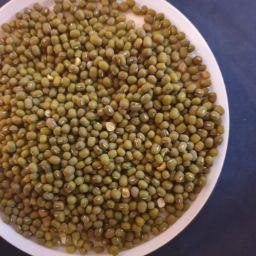Green gram dal(moong): (57, 1, 183, 256), (109, 4, 224, 235), (31, 10, 117, 256), (73, 47, 129, 241), (2, 19, 44, 239)
